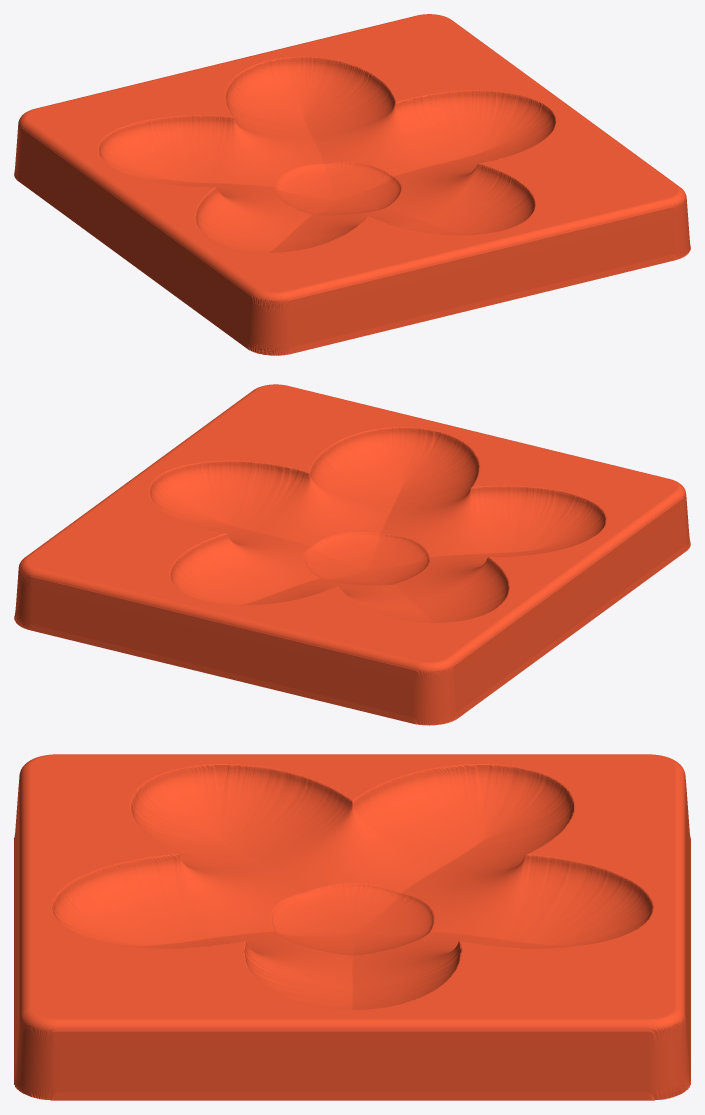
File: mold.glb
The picture shows the model from 3 angles, top to bottom: view 1: azimuth 30°, elevation 25°; view 2: azimuth 150°, elevation 25°; view 3: azimuth 270°, elevation 25°; orthographic projection. The views are drawn at different scales.
Visible parts, largest first — view 1: geometry_0; view 2: geometry_0; view 3: geometry_0.
Part boxes in pixels (x1,y1,x2,y2): geometry_0: (14, 14, 690, 355); geometry_0: (14, 384, 690, 725); geometry_0: (14, 754, 690, 1100).
Bounding box in the file's own units: 0.1392 × 0.0175 × 0.1435.
